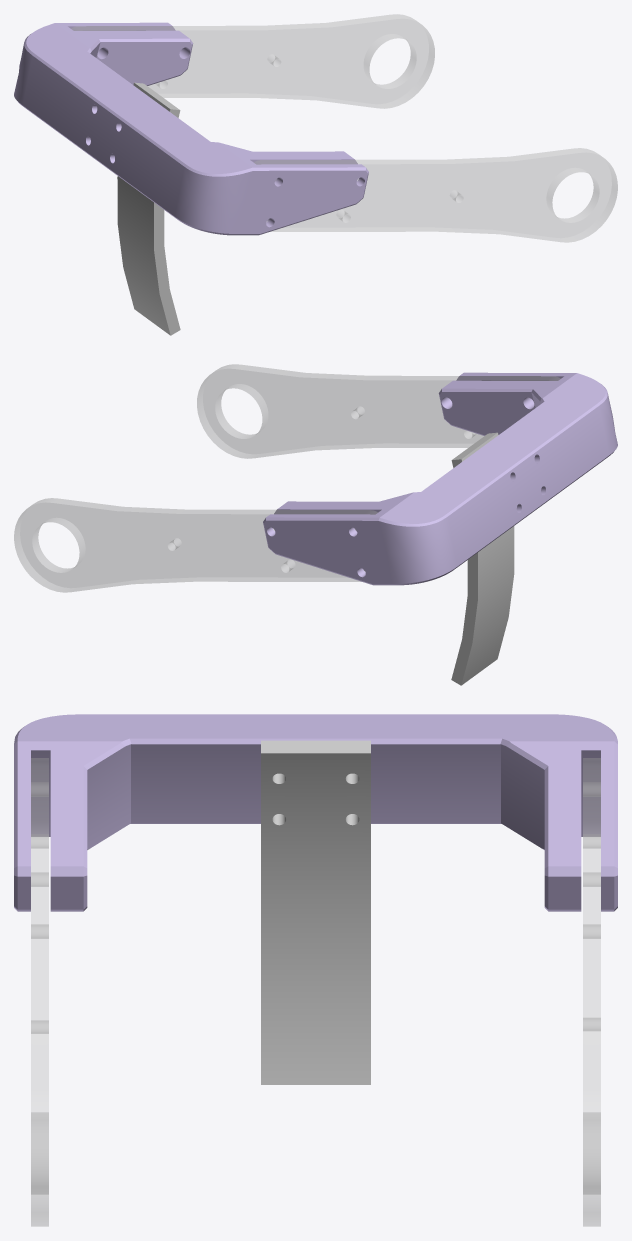
3 views of the same model, one above another, from view 1: azimuth 30°, elevation 25°; view 2: azimuth 150°, elevation 25°; view 3: azimuth 270°, elevation 25° (orthographic). The views are drawn at different scales.
Visible parts, largest first — view 1: Part 1 (×2), Part 2, hoodTongue; view 2: Part 1 (×2), Part 2, hoodTongue; view 3: Part 2, hoodTongue, Part 1 (×2).
Boxes of the visible parts, x1=… form: Part 1 (×2): x1=71, y1=14, x2=617, y2=242; Part 2: x1=14, y1=22, x2=368, y2=235; hoodTongue: x1=117, y1=82, x2=180, y2=335; Part 1 (×2): x1=14, y1=364, x2=560, y2=592; Part 2: x1=263, y1=372, x2=617, y2=585; hoodTongue: x1=451, y1=432, x2=514, y2=685; Part 2: x1=14, y1=714, x2=617, y2=911; hoodTongue: x1=261, y1=740, x2=370, y2=1084; Part 1 (×2): x1=31, y1=758, x2=600, y2=1226.
Size of the model in its own units: 0.2568 by 0.1311 by 0.2096.
